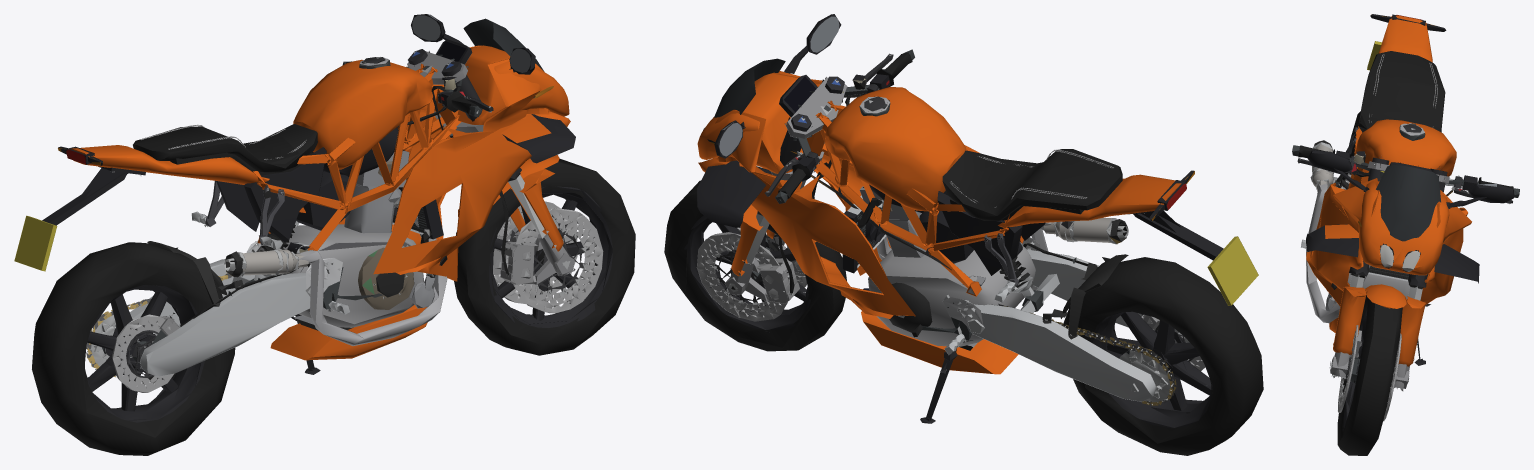
The model's file is SM_Prop_house_bike_2.glb.
3 views of the same model, side by side, from view 1: azimuth 30°, elevation 25°; view 2: azimuth 150°, elevation 25°; view 3: azimuth 270°, elevation 25° (orthographic). The views are drawn at different scales.
Parts seen in each view (by area): view 1: SM_Prop_house_bike_2; view 2: SM_Prop_house_bike_2; view 3: SM_Prop_house_bike_2.
Part boxes in pixels (x1=…): SM_Prop_house_bike_2: x1=14, y1=14, x2=635, y2=455; SM_Prop_house_bike_2: x1=664, y1=14, x2=1263, y2=455; SM_Prop_house_bike_2: x1=1292, y1=14, x2=1519, y2=455.
Bounding box in the file's own units: 2.06 × 1.09 × 0.8024.
